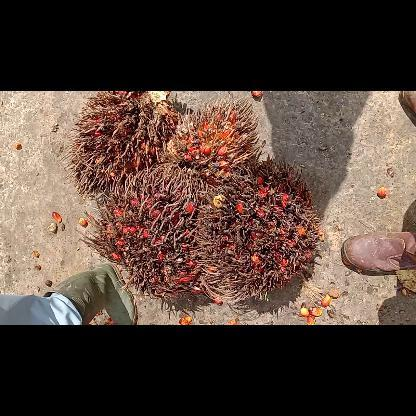Terlalu masak: (190, 150, 324, 304), (82, 161, 224, 299), (64, 91, 184, 204), (164, 96, 270, 188)
